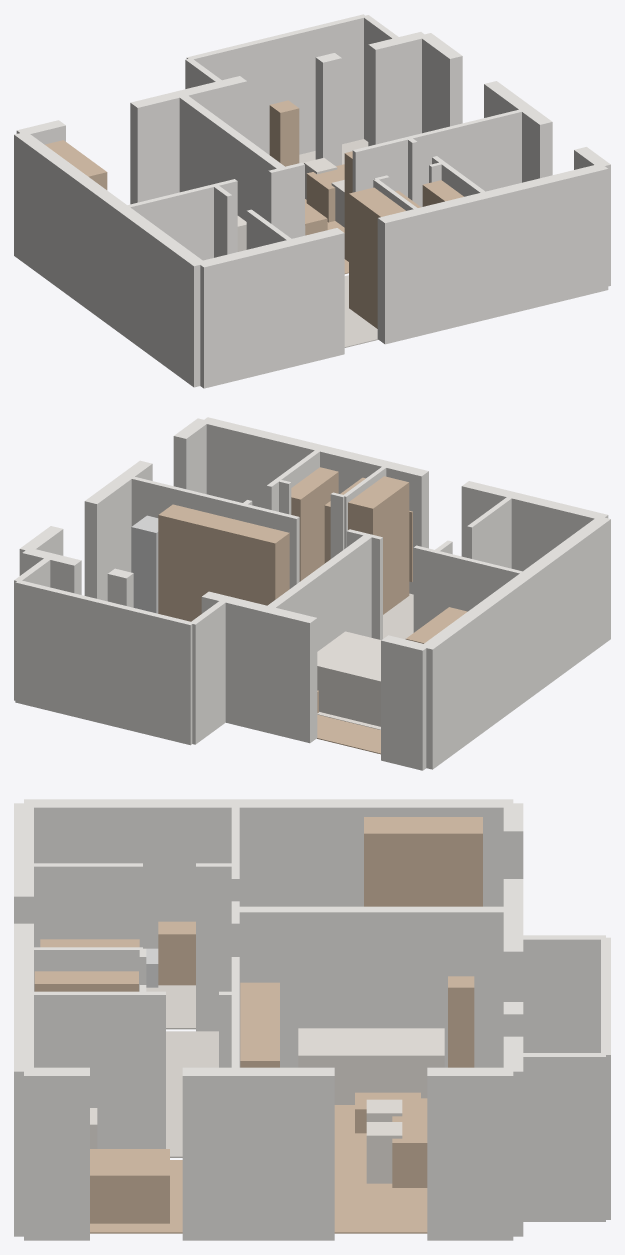
Rendered from demo_model.glb.
3 renders of one model, top to bottom at view 1: azimuth 30°, elevation 25°; view 2: azimuth 150°, elevation 25°; view 3: azimuth 270°, elevation 25°, orthographic. The views are drawn at different scales.
Visible parts, largest first — view 1: wall_W3 (×2), wall_W4, wall_W1 (×4), wall_W6 (×3), wall_W13, wall_W2 (×3), wall_W5, К-01_hallway_wardrobe, wall_W8 (×2), К-35_plant, wall_W9 (×2), К-17_dining_table (+7 smaller); view 2: wall_W4, wall_W13, wall_W1 (×4), wall_W3 (×2), К-15_kitchen_run, wall_W6 (×3), wall_W2 (×3), wall_W5, К-09_bed, К-01_hallway_wardrobe, wall_W12, К-33_storage_system (+10 smaller); view 3: wall_W2 (×3), wall_W4, wall_W5, wall_W9 (×2), wall_W8 (×2), wall_W14, К-12_wardrobe, wall_W12, К-22_sofa, wall_W1 (×4), wall_W3 (×2), floor_R4 (+16 smaller).
Part boxes in pixels (left/top/right/bottom): wall_W3 (×2): left=198, top=165, right=608, bottom=388; wall_W4: left=14, top=133, right=205, bottom=387; wall_W1 (×4): left=16, top=32, right=427, bottom=204; wall_W6 (×3): left=125, top=108, right=527, bottom=260; wall_W13: left=186, top=14, right=366, bottom=154; wall_W2 (×3): left=419, top=33, right=610, bottom=286; wall_W5: left=176, top=93, right=286, bottom=221; К-01_hallway_wardrobe: left=349, top=187, right=405, bottom=328; wall_W8 (×2): left=214, top=184, right=294, bottom=257; К-35_plant: left=269, top=100, right=299, bottom=166; wall_W9 (×2): left=408, top=137, right=484, bottom=204; К-17_dining_table: left=306, top=164, right=344, bottom=222; wall_W4: left=421, top=517, right=610, bottom=769; wall_W13: left=15, top=580, right=193, bottom=745; wall_W1 (×4): left=22, top=547, right=428, bottom=770; wall_W3 (×2): left=201, top=417, right=608, bottom=594; К-15_kitchen_run: left=158, top=504, right=289, bottom=621; wall_W6 (×3): left=127, top=475, right=522, bottom=639; wall_W2 (×3): left=19, top=418, right=209, bottom=601; wall_W5: left=265, top=535, right=371, bottom=651; К-09_bed: left=317, top=631, right=380, bottom=726; К-01_hallway_wardrobe: left=348, top=476, right=409, bottom=614; wall_W12: left=190, top=601, right=225, bottom=744; К-33_storage_system: left=291, top=467, right=338, bottom=581; wall_W2 (×3): left=24, top=1067, right=513, bottom=1240; wall_W4: left=24, top=799, right=513, bottom=948; wall_W5: left=235, top=906, right=513, bottom=1067; wall_W9 (×2): left=34, top=991, right=231, bottom=1148; wall_W8 (×2): left=34, top=863, right=235, bottom=1031; wall_W14: left=523, top=1053, right=605, bottom=1221; К-12_wardrobe: left=364, top=817, right=482, bottom=906; wall_W12: left=513, top=935, right=605, bottom=1052; К-22_sofa: left=298, top=1028, right=444, bottom=1104; wall_W1 (×4): left=503, top=803, right=523, bottom=1236; wall_W3 (×2): left=14, top=803, right=33, bottom=1236; floor_R4: left=334, top=1105, right=427, bottom=1233.
Bounding box in the file's own units: 9.9 × 2.77 × 9.03.
